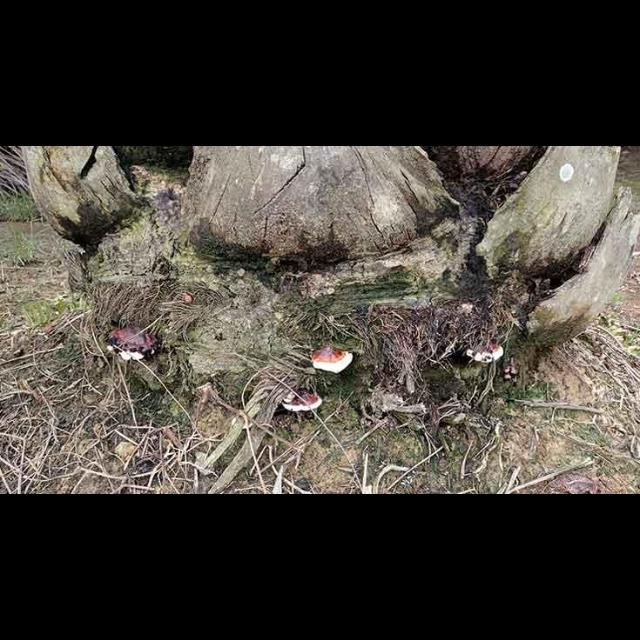ganoderma: (110, 328, 153, 360), (311, 348, 353, 373), (281, 390, 322, 412), (465, 344, 507, 365)
